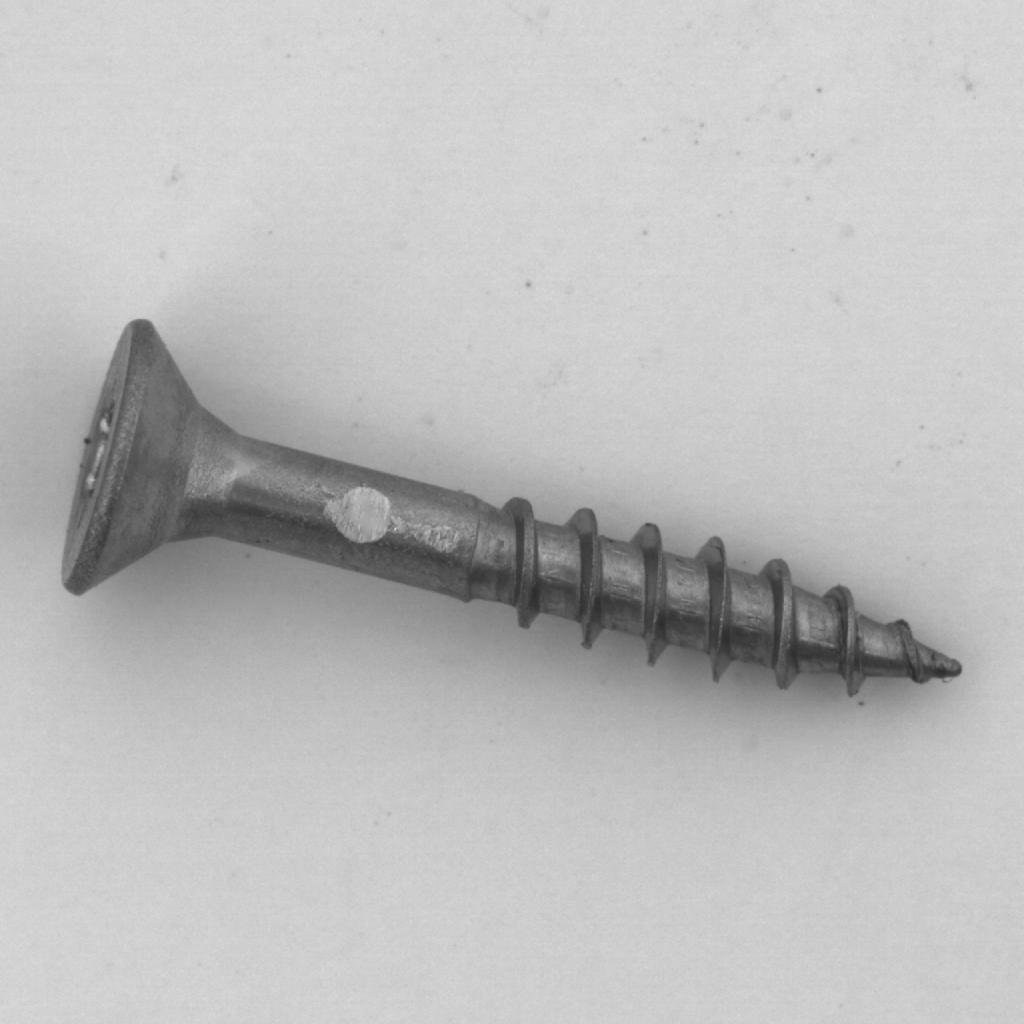bad: (111, 100, 905, 903)
